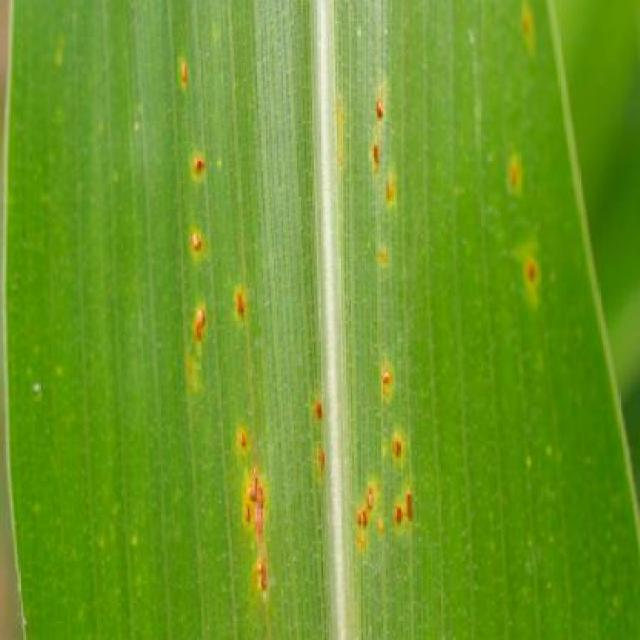Corn_Rust: (87, 12, 558, 600)
